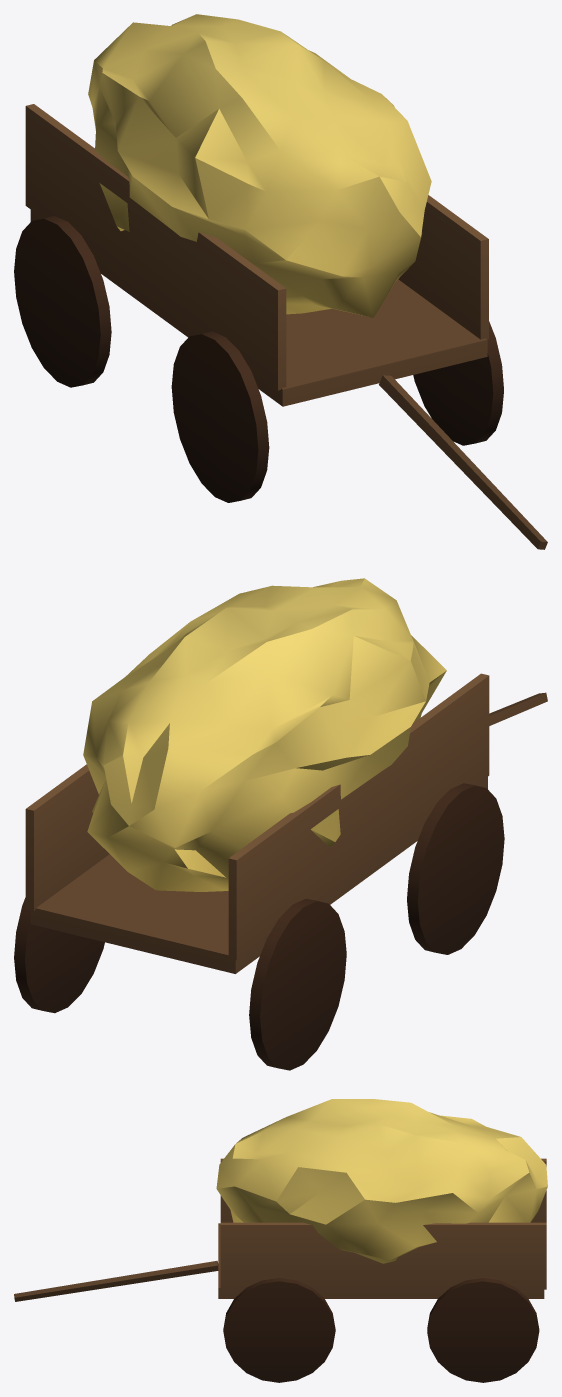
File: Hay_Cart.fbx
3 views of the same model, one above another, from view 1: azimuth 30°, elevation 25°; view 2: azimuth 150°, elevation 25°; view 3: azimuth 270°, elevation 25° (orthographic). The views are drawn at different scales.
Parts seen in each view (by area): view 1: Hay_Cart_LOD0; view 2: Hay_Cart_LOD0; view 3: Hay_Cart_LOD0.
Boxes of the visible parts, x1,y1,x2,y2 form: Hay_Cart_LOD0: (14,14,547,549); Hay_Cart_LOD0: (14,578,547,1070); Hay_Cart_LOD0: (14,1099,547,1382).
Size of what is drawn, in the model's own units: 1.8 by 2.51 by 5.24.
Materials: 1 (1 with a texture image).
